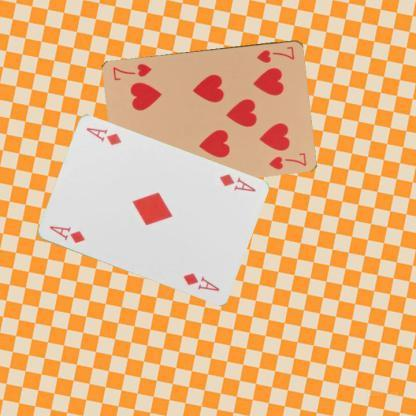7h: (254, 43, 296, 63)
Ad: (216, 171, 257, 194), (46, 223, 86, 245)
